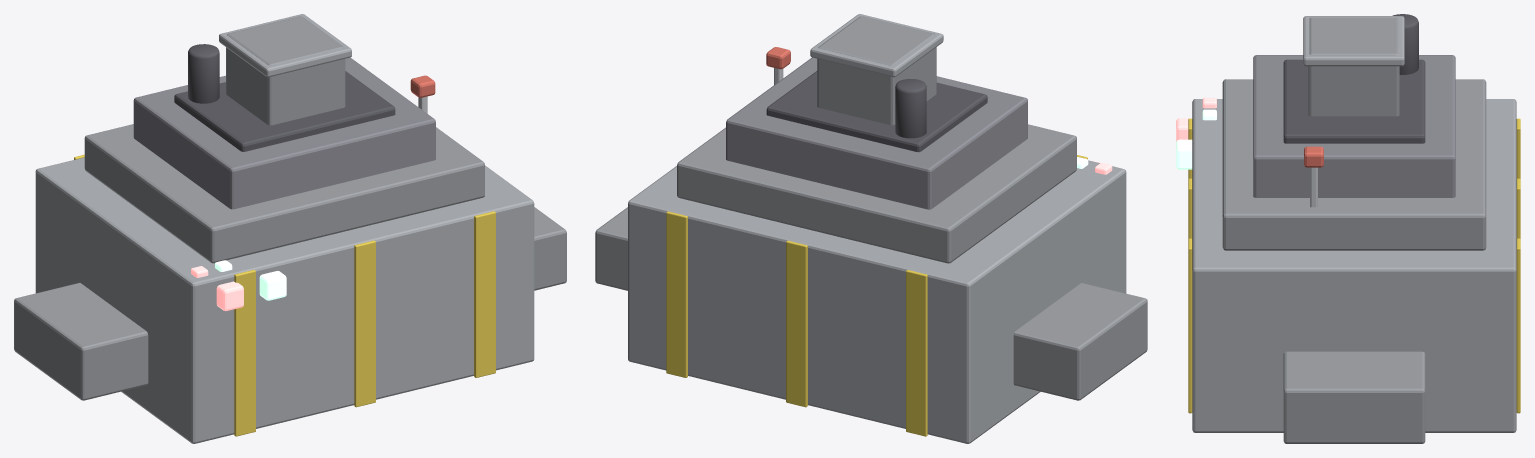
Rendered from измельчитель.glb.
3 renders of one model, left to right at view 1: azimuth 30°, elevation 25°; view 2: azimuth 150°, elevation 25°; view 3: azimuth 270°, elevation 25°, orthographic. The views are drawn at different scales.
Visible parts, largest first — view 1: измельчитель; view 2: измельчитель; view 3: измельчитель.
Part boxes in pixels (x1,y1,x2,y2): измельчитель: [14, 14, 566, 443]; измельчитель: [595, 14, 1147, 443]; измельчитель: [1176, 14, 1520, 443].
Bounding box in the file's own units: 2.84 × 1.7 × 1.7.
